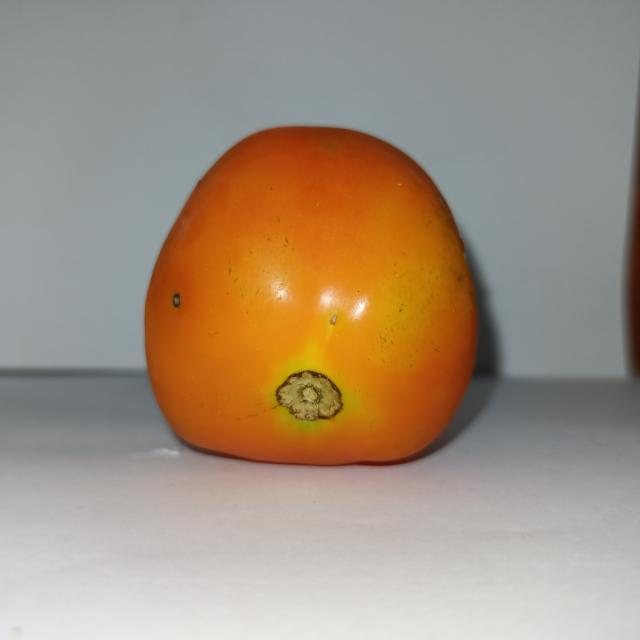Red: (142, 123, 479, 467)
